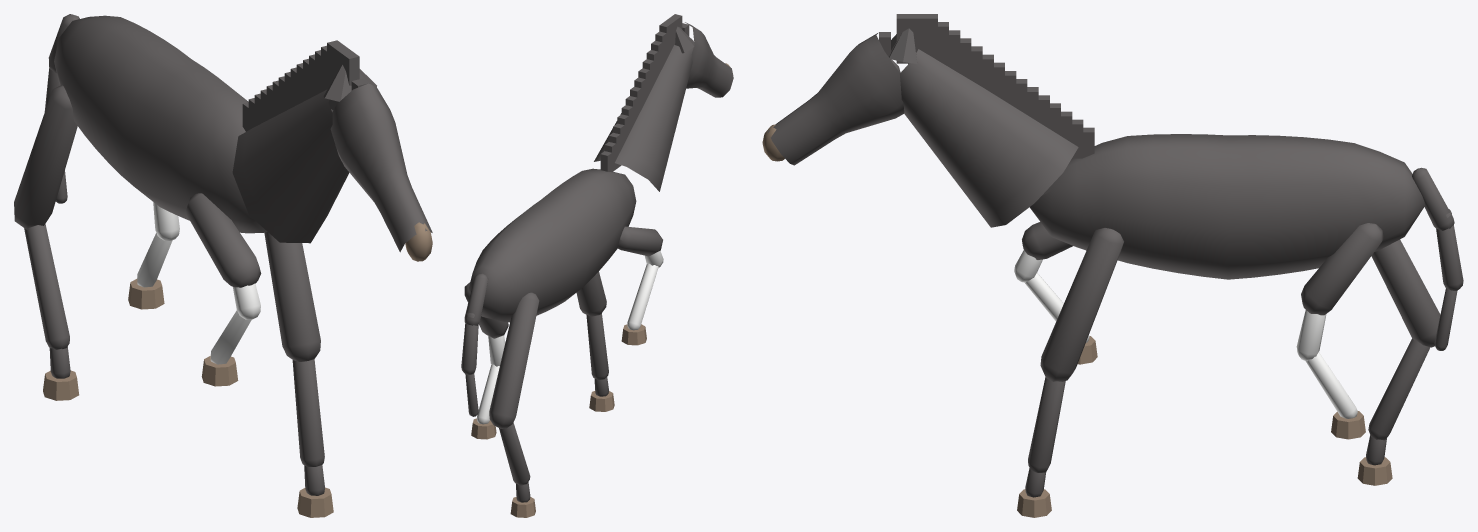
Rendered from riding-horse-trotting-black.glb.
3 renders of one model, left to right at view 1: azimuth 30°, elevation 25°; view 2: azimuth 150°, elevation 25°; view 3: azimuth 270°, elevation 25°, orthographic. The views are drawn at different scales.
Visible parts, largest first — view 1: horse-trotting-black; view 2: horse-trotting-black; view 3: horse-trotting-black.
Part boxes in pixels (x1,y1,x2,y2): horse-trotting-black: (14, 14, 432, 517); horse-trotting-black: (461, 14, 733, 517); horse-trotting-black: (762, 14, 1463, 517).
Bounding box in the file's own units: 0.4687 × 2.17 × 2.89.
